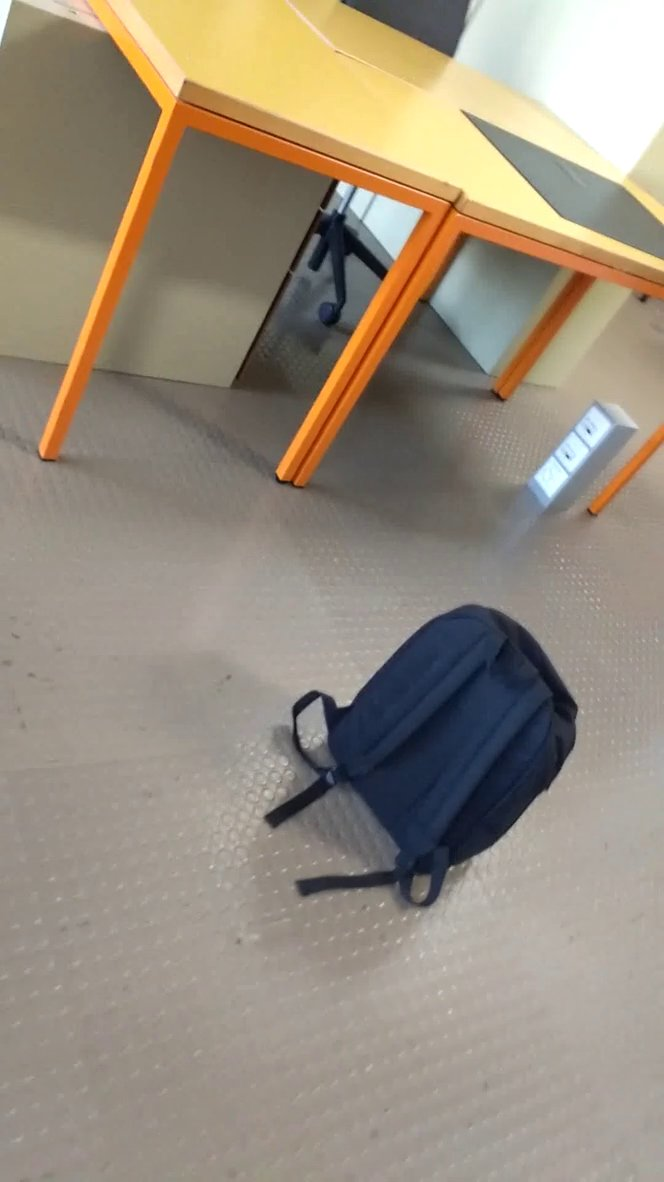bag: (258, 597, 590, 922)
